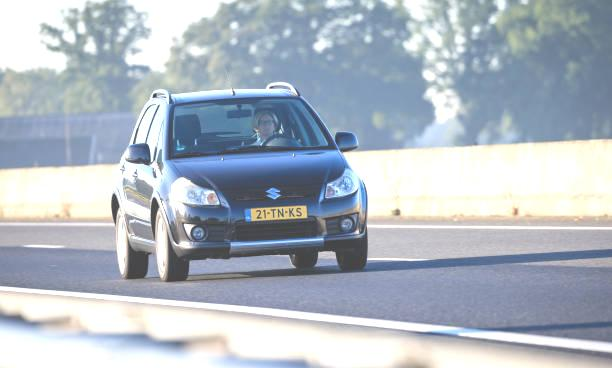suzuki: (260, 184, 287, 203)
